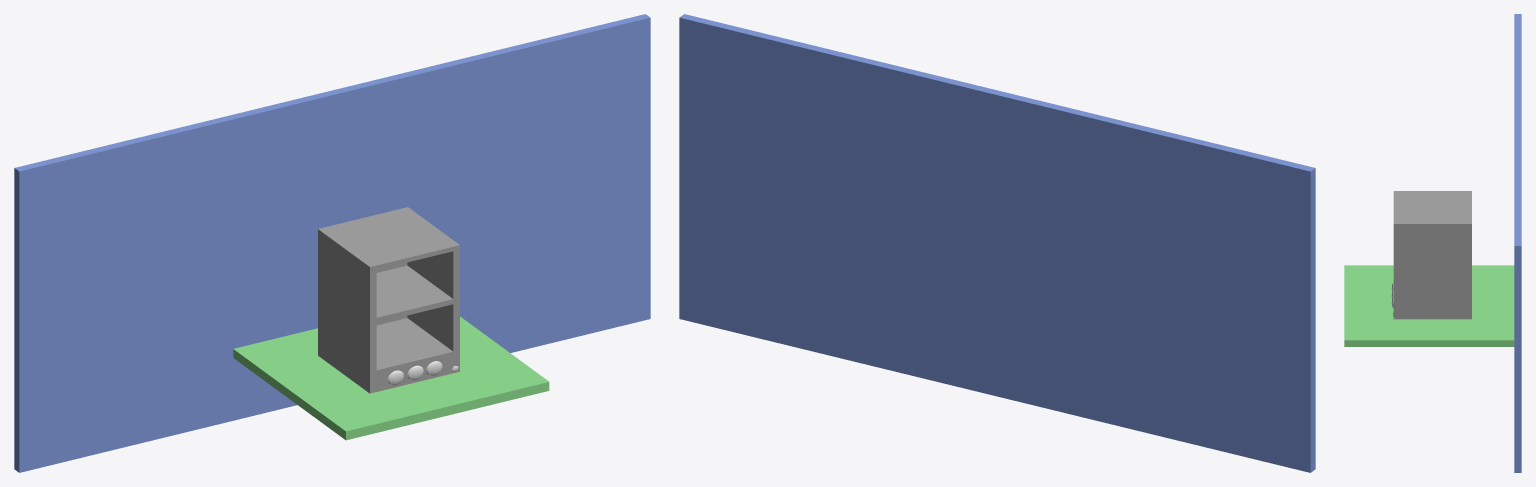
The picture shows the model from 3 angles, left to right: view 1: azimuth 30°, elevation 25°; view 2: azimuth 150°, elevation 25°; view 3: azimuth 270°, elevation 25°; orthographic projection. The views are drawn at different scales.
Parts seen in each view (by area): view 1: pCube4, pCube3, pCube1, pCube2; view 2: pCube4; view 3: pCube3, pCube2, pCube1, pCube4.
Part boxes in pixels (x1=…): pCube4: x1=14, y1=14, x2=650, y2=472; pCube3: x1=233, y1=316, x2=549, y2=440; pCube1: x1=318, y1=265, x2=459, y2=393; pCube2: x1=318, y1=207, x2=459, y2=324; pCube4: x1=679, y1=14, x2=1315, y2=472; pCube3: x1=1344, y1=265, x2=1514, y2=346; pCube2: x1=1393, y1=191, x2=1471, y2=267; pCube1: x1=1393, y1=263, x2=1471, y2=319; pCube4: x1=1514, y1=14, x2=1521, y2=472.
Bounding box in the file's own units: 73.69 × 33.63 × 23.81.
